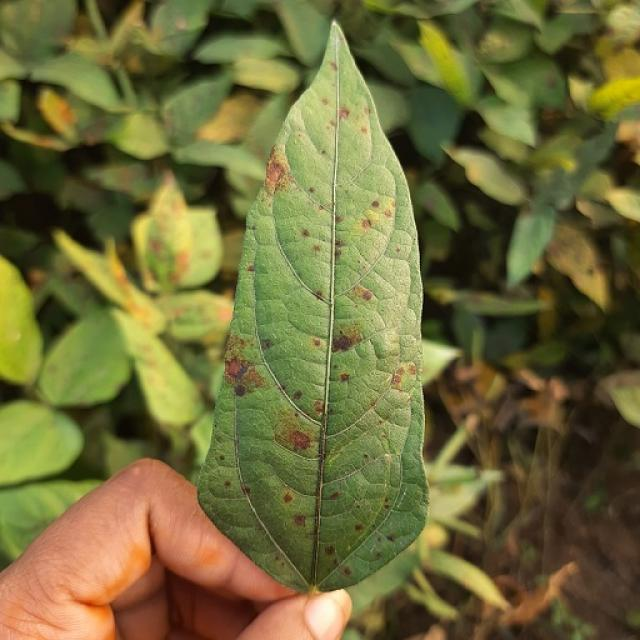Anthracnose: (218, 346, 273, 410), (223, 333, 268, 395), (274, 409, 316, 453), (355, 195, 397, 238), (263, 150, 289, 192), (331, 324, 364, 351), (224, 334, 251, 365), (390, 361, 417, 391), (224, 356, 247, 381), (363, 208, 381, 227), (391, 369, 403, 386), (233, 383, 247, 396), (338, 107, 350, 120), (294, 514, 306, 527), (313, 400, 324, 414), (314, 290, 326, 302), (283, 492, 293, 503), (363, 290, 373, 301), (362, 218, 371, 230), (324, 545, 334, 555), (339, 373, 350, 382), (334, 239, 344, 248), (242, 486, 251, 495), (355, 523, 364, 532), (263, 339, 272, 348), (329, 61, 337, 71), (301, 229, 310, 237), (335, 215, 343, 223)
Blackgram: (198, 24, 426, 591)
